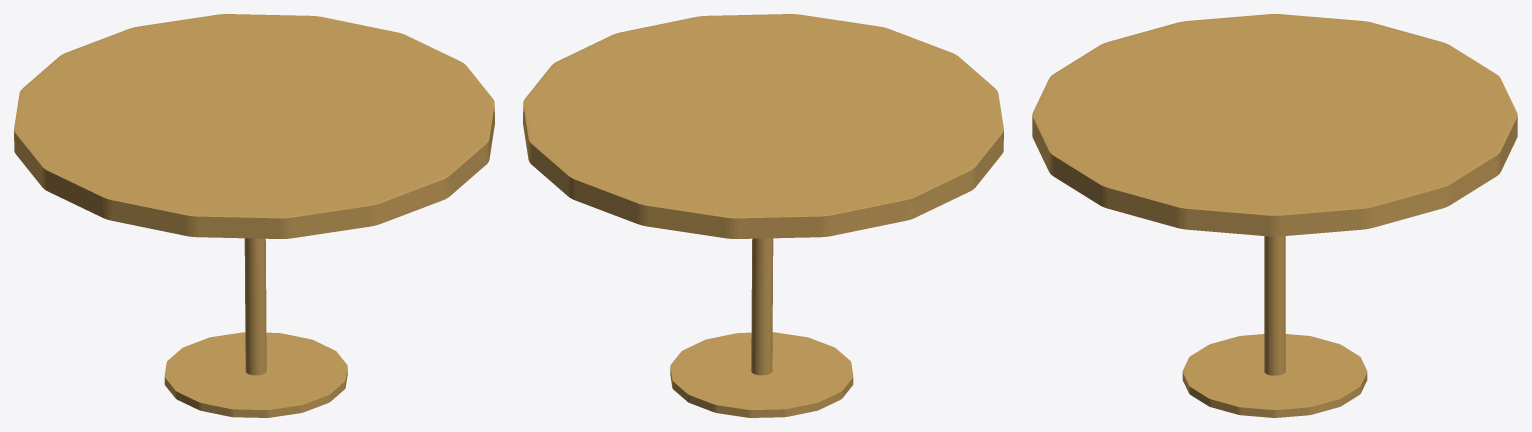
The model's file is stolic.fbx.
The picture shows the model from 3 angles, left to right: view 1: azimuth 30°, elevation 25°; view 2: azimuth 150°, elevation 25°; view 3: azimuth 270°, elevation 25°; orthographic projection.
Parts seen in each view (by area): view 1: Cylinder.009; view 2: Cylinder.009; view 3: Cylinder.009.
Boxes of the visible parts, x1,y1,x2,y2 form: Cylinder.009: (14, 14, 494, 417); Cylinder.009: (523, 14, 1003, 417); Cylinder.009: (1032, 14, 1517, 417).
Bounding box in the file's own units: 46.63 × 28.23 × 46.62.
